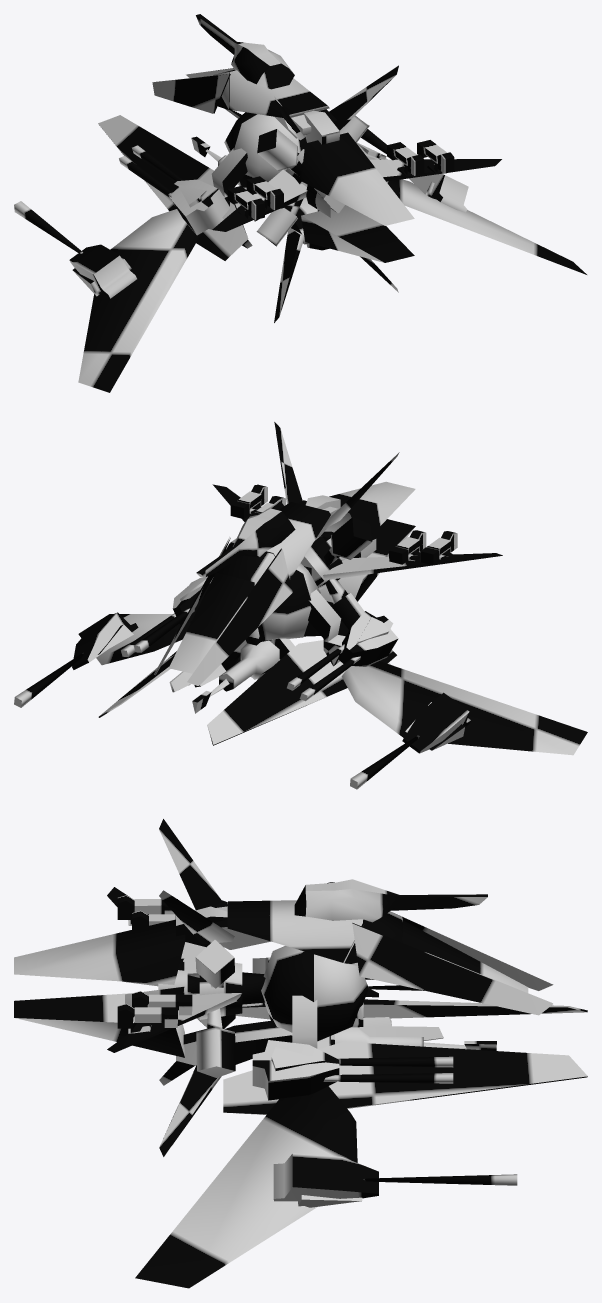
Rendered from pet_12.obj.
3 views of the same model, one above another, from view 1: azimuth 30°, elevation 25°; view 2: azimuth 150°, elevation 25°; view 3: azimuth 270°, elevation 25° (orthographic). The views are drawn at different scales.
Visible parts, largest first — view 1: main; view 2: main; view 3: main.
Boxes of the visible parts, box(x1,y1,x2,y2) form: main: box(14, 14, 586, 392); main: box(14, 422, 587, 789); main: box(14, 819, 587, 1288).
Bounding box in the file's own units: 111 × 53.37 × 94.76.
Materials: 1 (1 with a texture image).
